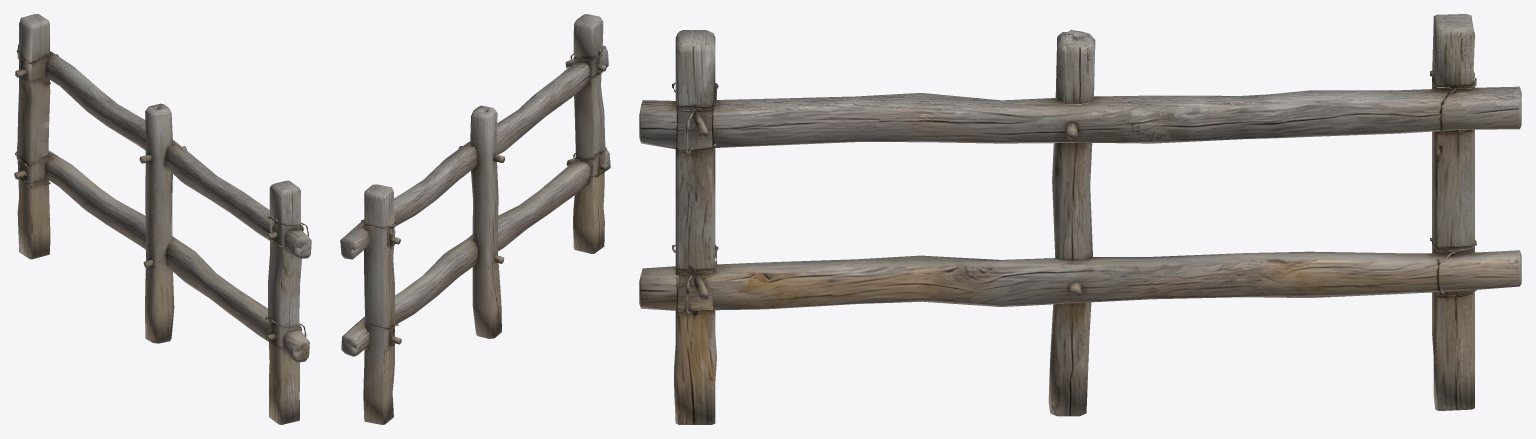
Rendered from original_glb.glb.
3 views of the same model, side by side, from view 1: azimuth 30°, elevation 25°; view 2: azimuth 150°, elevation 25°; view 3: azimuth 270°, elevation 25° (orthographic). The views are drawn at different scales.
Parts seen in each view (by area): view 1: split-rail fence; view 2: split-rail fence; view 3: split-rail fence.
Boxes of the visible parts, left/top/right/bottom form: split-rail fence: left=14, top=14, right=311, bottom=424; split-rail fence: left=340, top=14, right=610, bottom=424; split-rail fence: left=639, top=14, right=1521, bottom=424.
Bounding box in the file's own units: 0.127 × 0.4785 × 0.998.
Materials: 1 (1 with a texture image).
